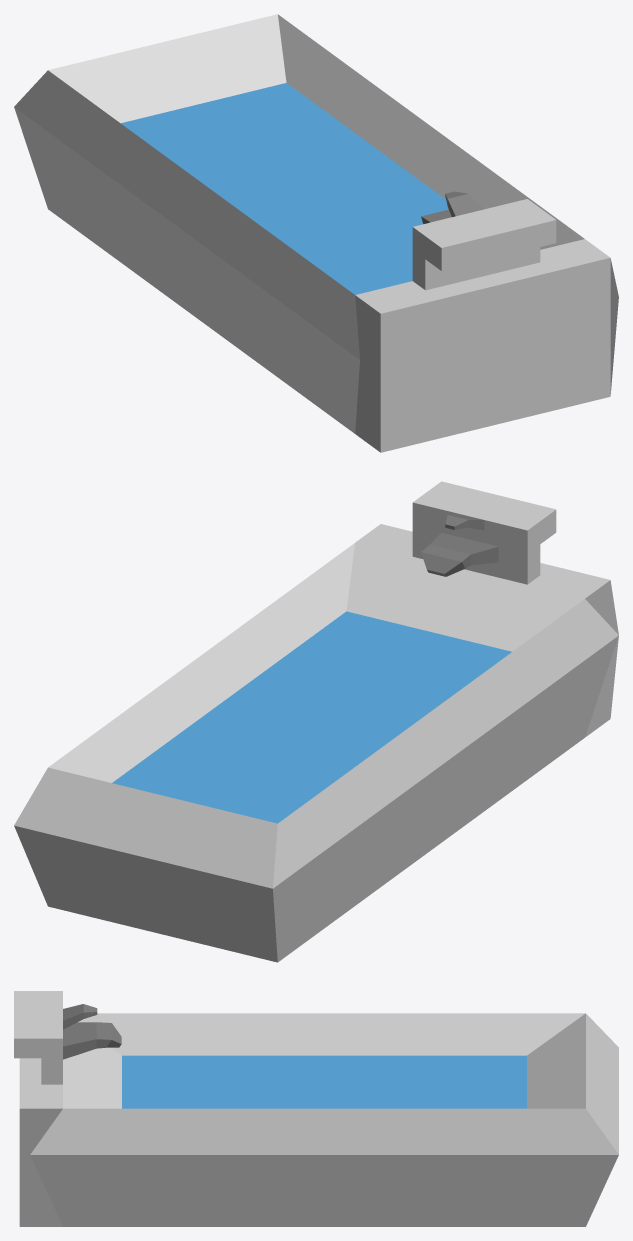
The model's file is bathtub.fbx.
The picture shows the model from 3 angles, top to bottom: view 1: azimuth 30°, elevation 25°; view 2: azimuth 150°, elevation 25°; view 3: azimuth 270°, elevation 25°; orthographic projection. The views are drawn at different scales.
Visible parts, largest first — view 1: Cube; view 2: Cube; view 3: Cube.
Boxes of the visible parts, box(x1,y1,x2,y2) form: Cube: box(14, 14, 618, 452); Cube: box(14, 481, 618, 962); Cube: box(14, 991, 618, 1226).
Bounding box in the file's own units: 310 × 230 × 737.
